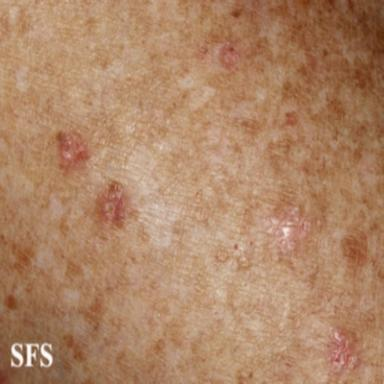Porokeratosis: (265, 205, 311, 254), (329, 328, 361, 372), (56, 129, 89, 171), (97, 181, 126, 225), (219, 43, 240, 70)
